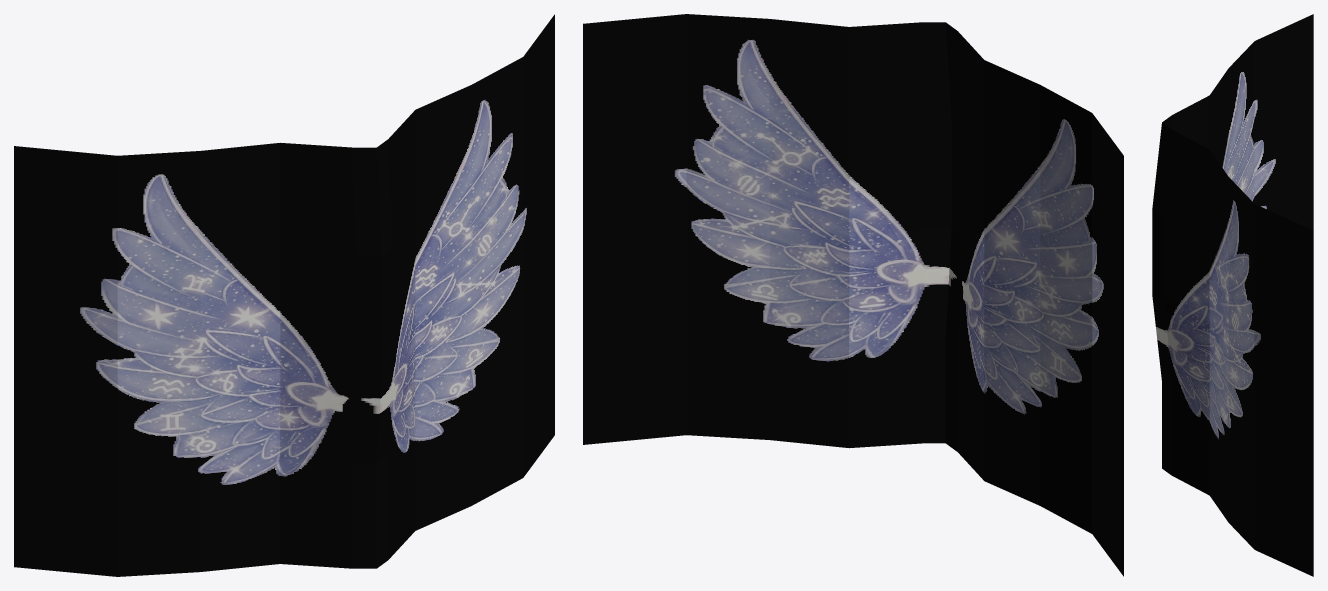
Rendered from canh 7.fbx.
The picture shows the model from 3 angles, left to right: view 1: azimuth 30°, elevation 25°; view 2: azimuth 150°, elevation 25°; view 3: azimuth 270°, elevation 25°; orthographic projection. The views are drawn at different scales.
Visible parts, largest first — view 1: 7; view 2: 7; view 3: 7.
Boxes of the visible parts, x1,y1,x2,y2 form: 7: (14, 14, 554, 576); 7: (583, 14, 1123, 576); 7: (1152, 14, 1313, 576).
Size of the model in its own units: 1.51 by 1.12 by 0.4732.
